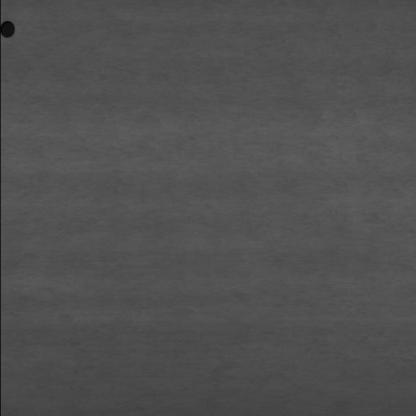punching_hole: (0, 18, 17, 40)
